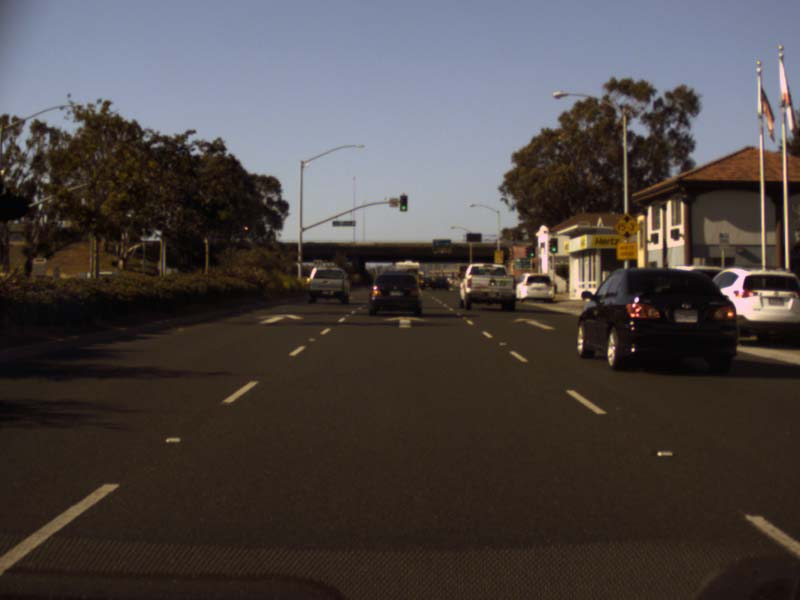Green: (400, 195, 406, 211), (551, 239, 556, 251), (529, 247, 534, 257)
Yellow: (241, 225, 248, 231)
